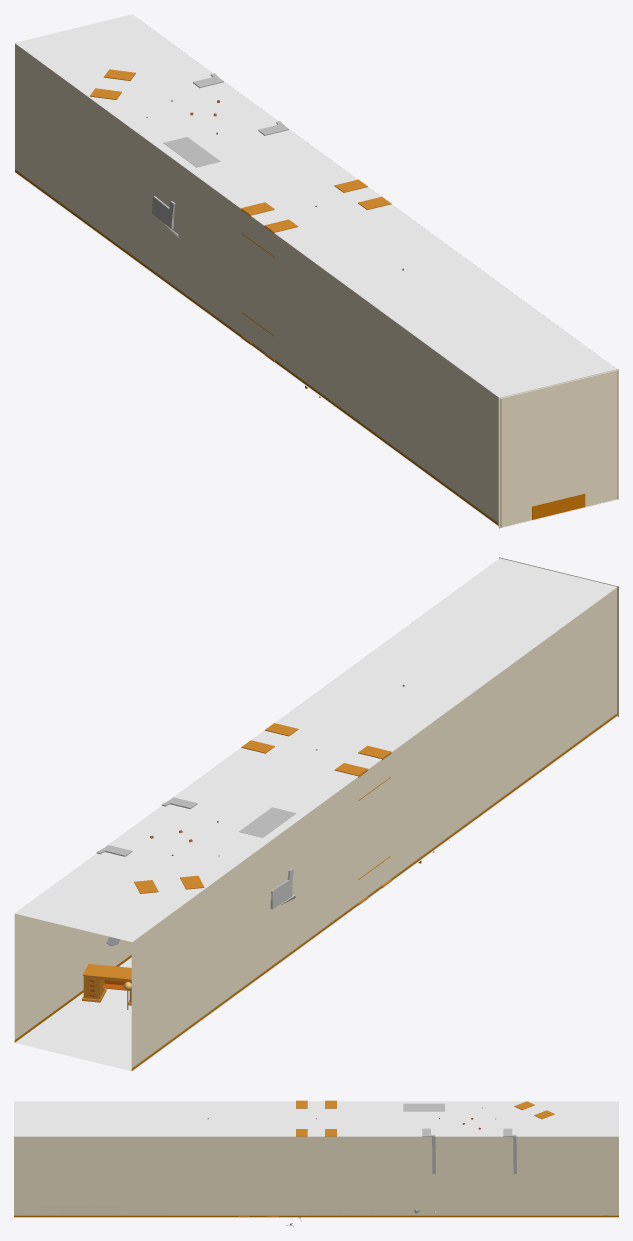
The model's file is stage_kari.fbx.
3 renders of one model, top to bottom at view 1: azimuth 30°, elevation 25°; view 2: azimuth 150°, elevation 25°; view 3: azimuth 270°, elevation 25°, orthographic. The views are drawn at different scales.
Visible parts, largest first — view 1: pPlane8, pCube21, tv; view 2: pPlane8, desk12, pCube21; view 3: pPlane8, pCube21, pCube26, pCube22, desk13, desk8.
Boxes of the visible parts, x1,y1,x2,y2 form: pPlane8: (14, 14, 618, 528); pCube21: (163, 137, 220, 167); tv: (532, 493, 585, 519); pPlane8: (14, 557, 618, 1071); desk12: (82, 964, 131, 1005); pCube21: (239, 807, 296, 837); pPlane8: (14, 1101, 618, 1217); pCube21: (403, 1103, 444, 1111); pCube26: (503, 1128, 516, 1173); pCube22: (422, 1128, 435, 1173); desk13: (514, 1101, 554, 1119); desk8: (296, 1100, 336, 1108).
Size of the model in its own units: 172 by 169 by 1011.
